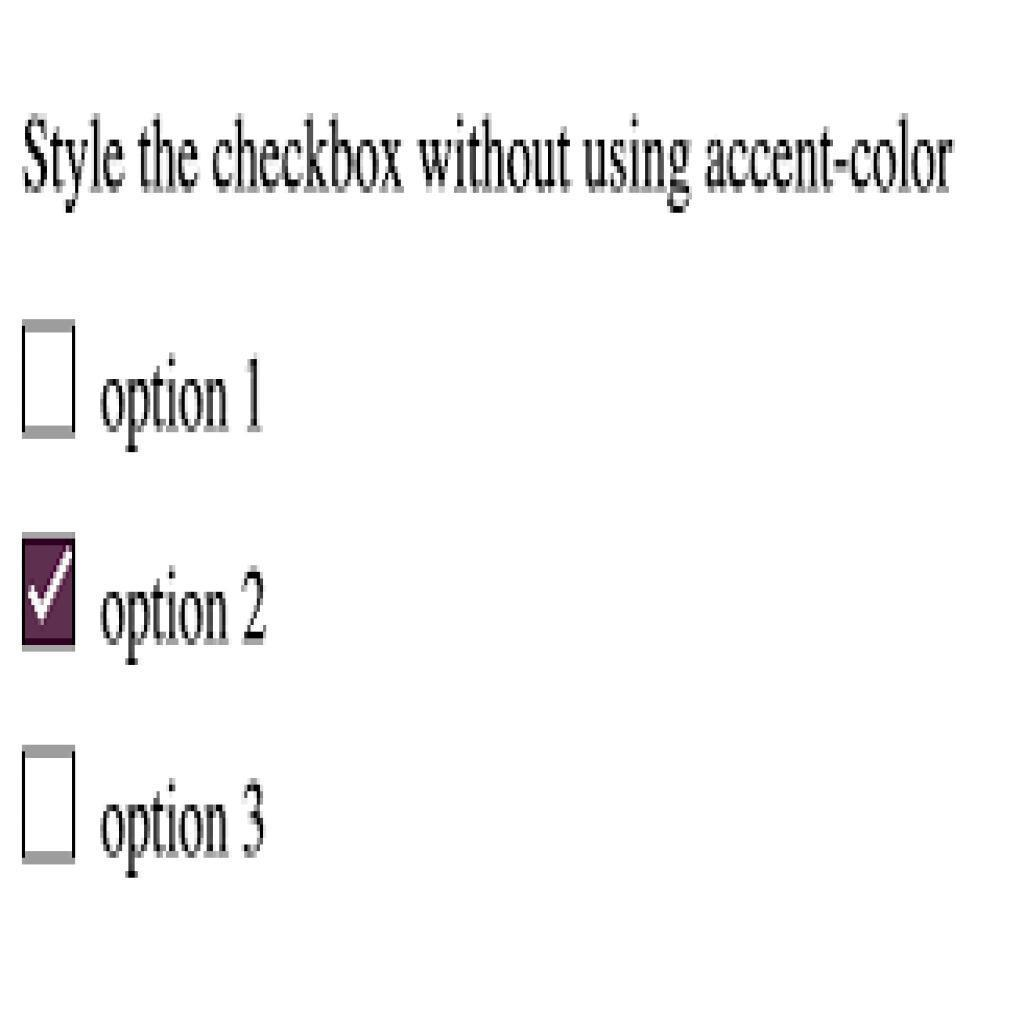checkbox: (20, 321, 77, 443), (21, 532, 78, 652), (22, 746, 77, 866)
label: (91, 345, 273, 461), (94, 774, 276, 889), (97, 562, 272, 675)
